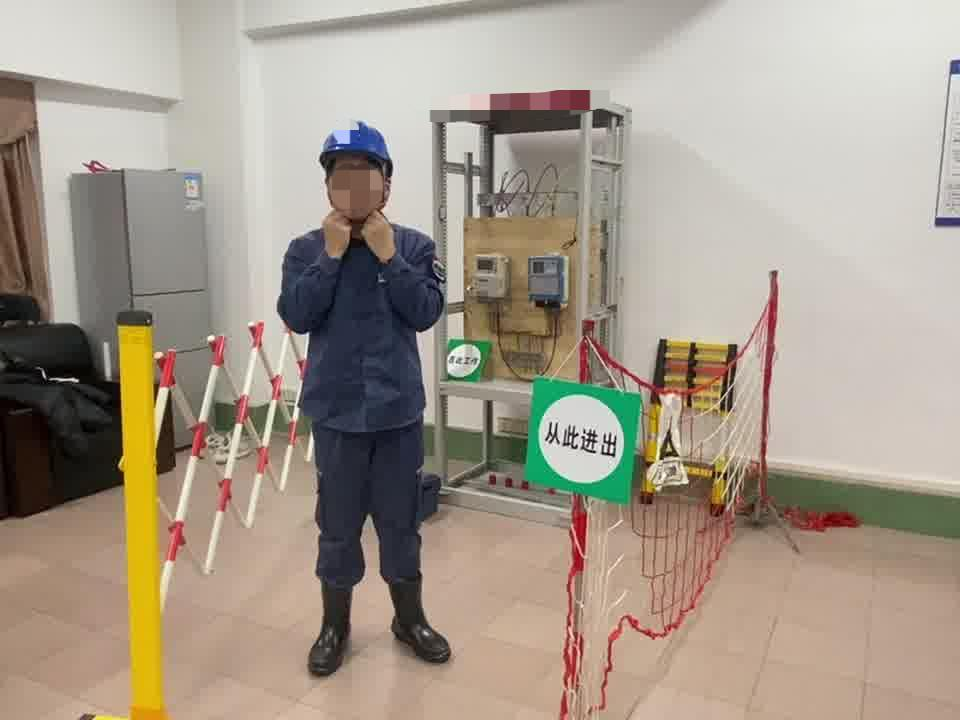halt: (318, 122, 400, 229)
